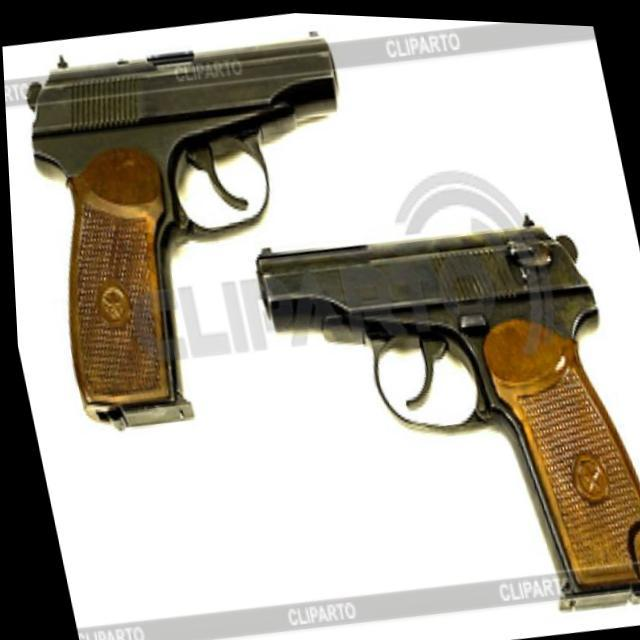weapon: (243, 188, 640, 640), (5, 11, 402, 446)
